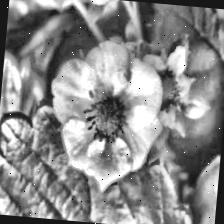Blossom Blight: (78, 85, 138, 149)
